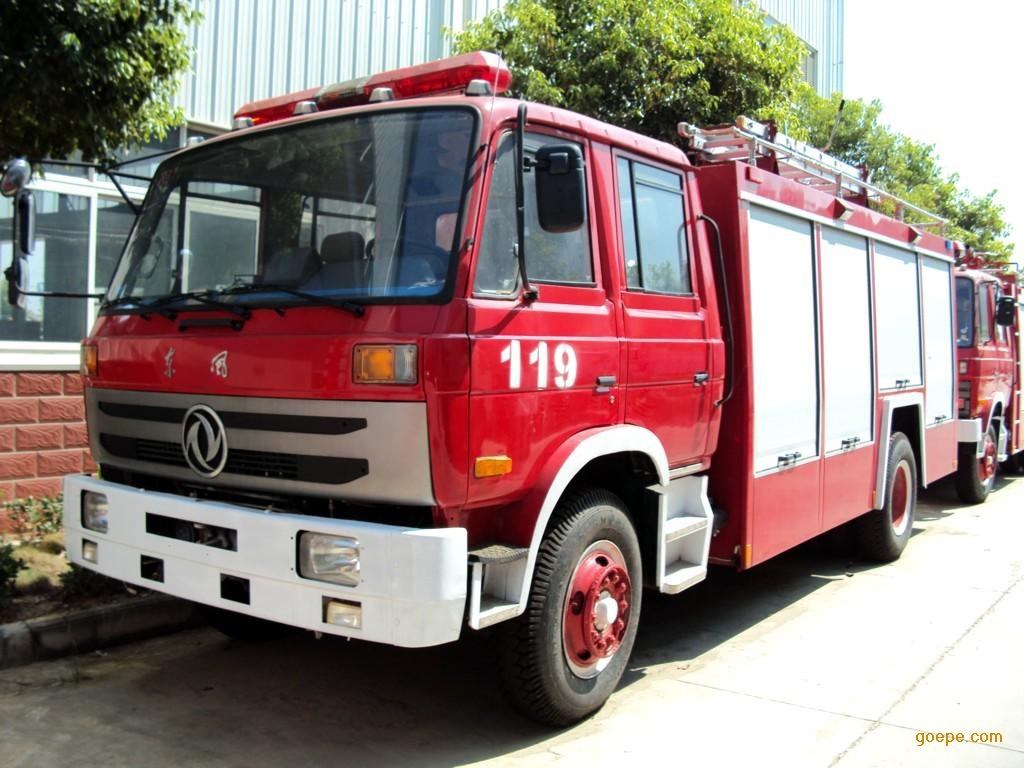fire engine: (68, 59, 974, 712)
